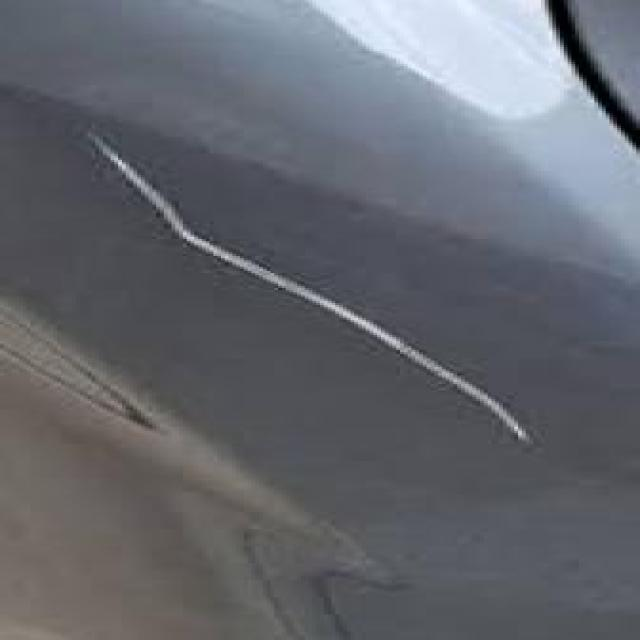scratch: (56, 111, 554, 448)
